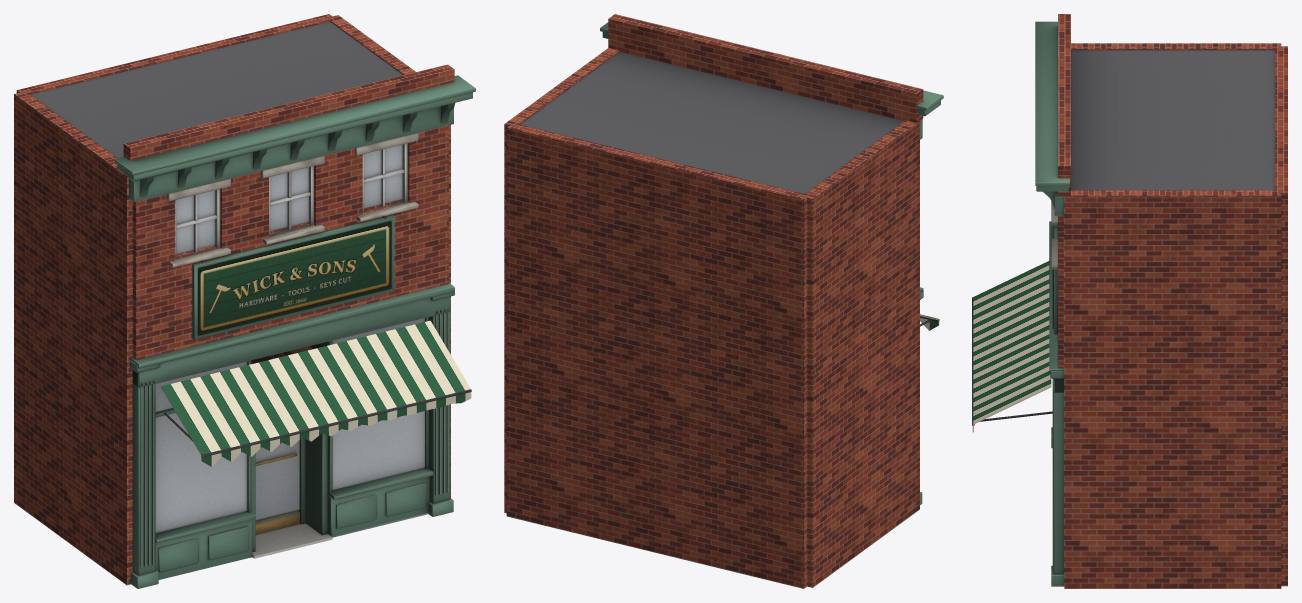
File: WFShopHardware.fbx
The picture shows the model from 3 angles, left to right: view 1: azimuth 30°, elevation 25°; view 2: azimuth 150°, elevation 25°; view 3: azimuth 270°, elevation 25°; orthographic projection. The views are drawn at different scales.
Visible parts, largest first — view 1: WFShopHardware_Walls, WFShopHardware_Main, WFShopHardware_Awning, WFShopHardware_Glass, WFShopHardware_Sign; view 2: WFShopHardware_Walls, WFShopHardware_Main; view 3: WFShopHardware_Walls, WFShopHardware_Main, WFShopHardware_Awning.
Part boxes in pixels (x1=…): WFShopHardware_Walls: x1=14, y1=14, x2=454, y2=585; WFShopHardware_Main: x1=30, y1=21, x2=475, y2=588; WFShopHardware_Awning: x1=161, y1=320, x2=471, y2=466; WFShopHardware_Glass: x1=155, y1=144, x2=424, y2=532; WFShopHardware_Sign: x1=198, y1=221, x2=391, y2=335; WFShopHardware_Walls: x1=504, y1=14, x2=923, y2=588; WFShopHardware_Main: x1=520, y1=22, x2=943, y2=504; WFShopHardware_Walls: x1=1058, y1=14, x2=1287, y2=588; WFShopHardware_Main: x1=972, y1=21, x2=1274, y2=586; WFShopHardware_Awning: x1=972, y1=261, x2=1051, y2=432.
Size of the model in its own units: 1760 by 2150 by 1456.
